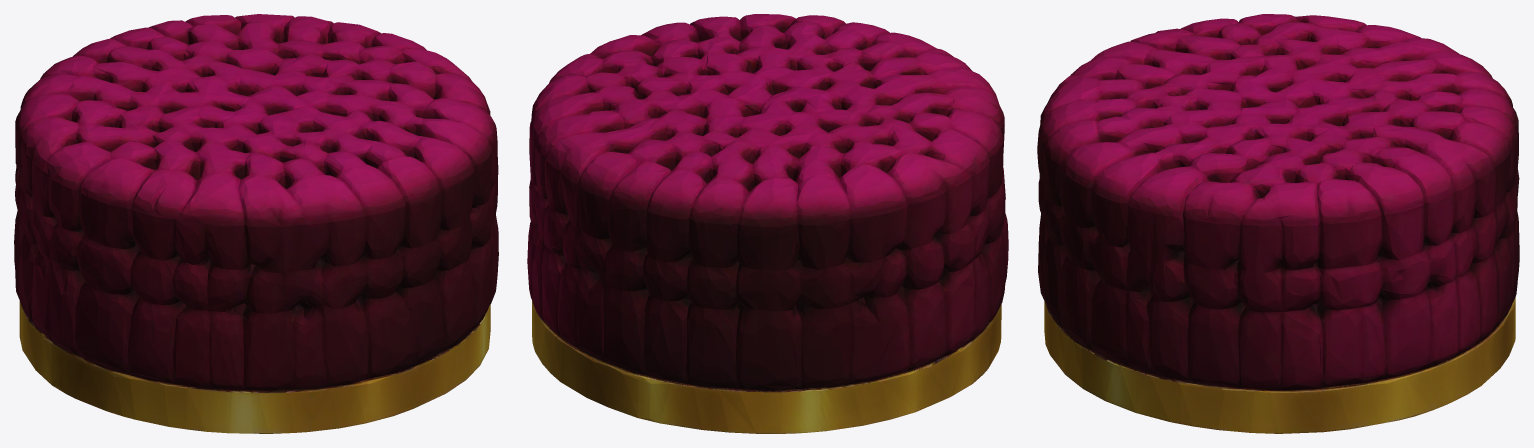
Rendered from jacket_leather_brown_shearling.glb.
3 renders of one model, left to right at view 1: azimuth 30°, elevation 25°; view 2: azimuth 150°, elevation 25°; view 3: azimuth 270°, elevation 25°, orthographic.
Parts seen in each view (by area): view 1: geometry_0; view 2: geometry_0; view 3: geometry_0.
Part boxes in pixels (x1=…): geometry_0: x1=14, y1=14, x2=498, y2=433; geometry_0: x1=527, y1=14, x2=1008, y2=433; geometry_0: x1=1037, y1=14, x2=1519, y2=433.
Bounding box in the file's own units: 0.9937 × 0.5436 × 0.9981.
1 material, 1 textured.
